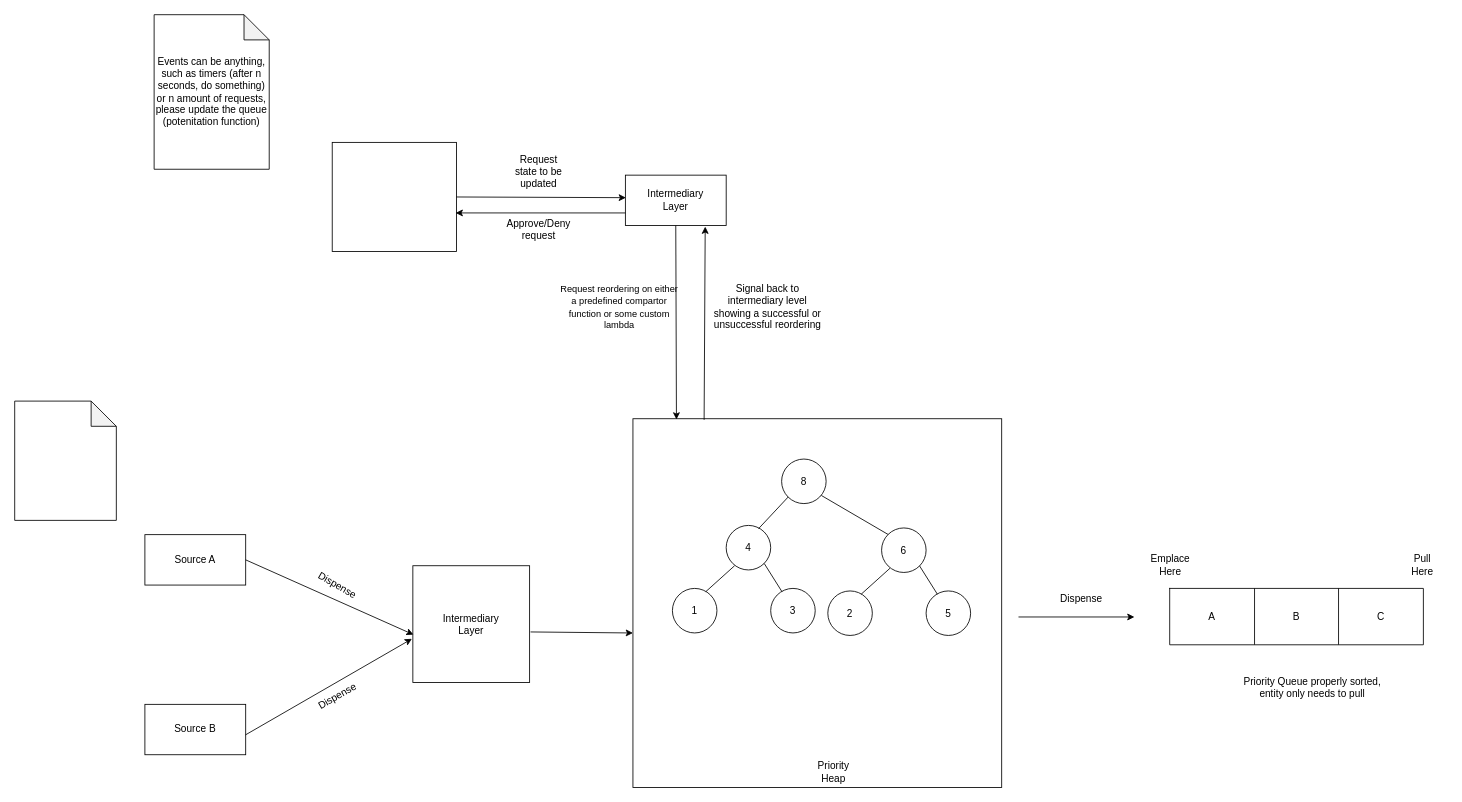
The diagram is 1462 pixels wide and 802 high, and some of its shapes have lost their labels. Here are the shapes that lost their labels. From the top down, the centre of each, then its label:
At point (394, 197): "Event Generator".
At point (65, 460): "Any device that can introduce new elements that are of concern. AKA generators".
